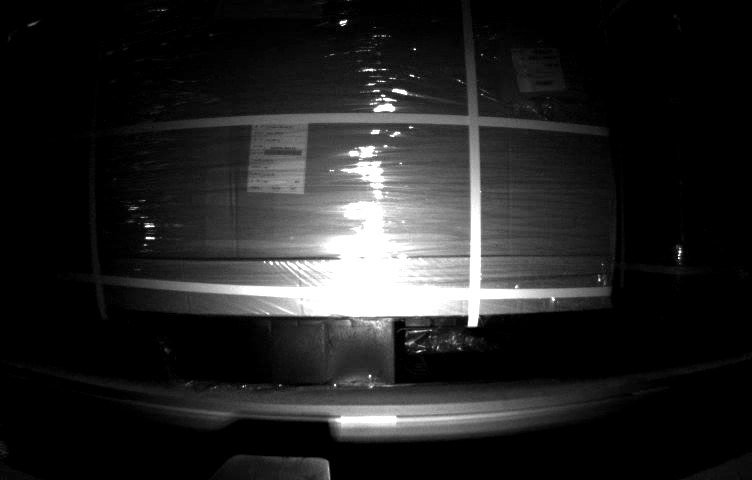True Barcode: (503, 43, 567, 92)
